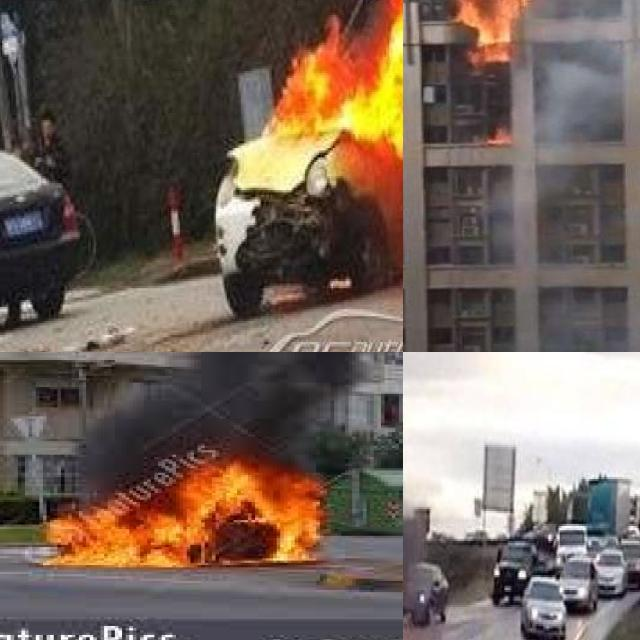fire: (239, 0, 403, 290), (32, 439, 345, 572), (446, 0, 542, 70), (485, 116, 520, 147)
smoke: (78, 352, 403, 490), (543, 0, 640, 352)
